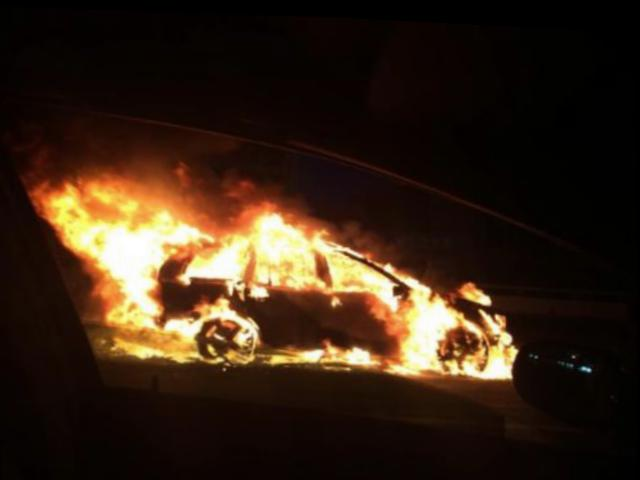fire: (53, 163, 525, 383)
